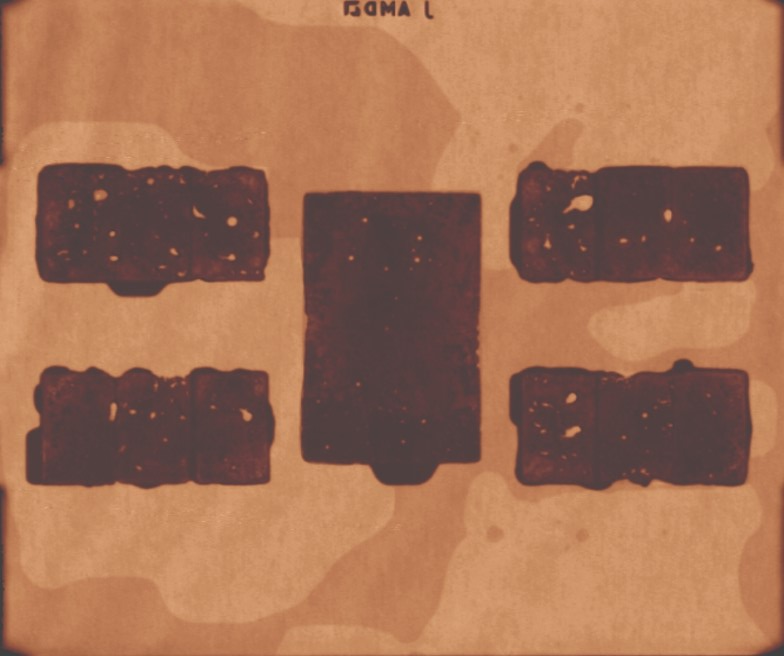CCD: (202, 95, 338, 157), (454, 95, 590, 157), (202, 159, 338, 221), (454, 159, 590, 221), (202, 432, 338, 494), (454, 432, 590, 494), (202, 559, 338, 621), (454, 559, 590, 621), (202, 32, 338, 93), (454, 32, 590, 93), (202, 496, 338, 557), (454, 496, 590, 557)
IOD: (233, 254, 560, 399)
